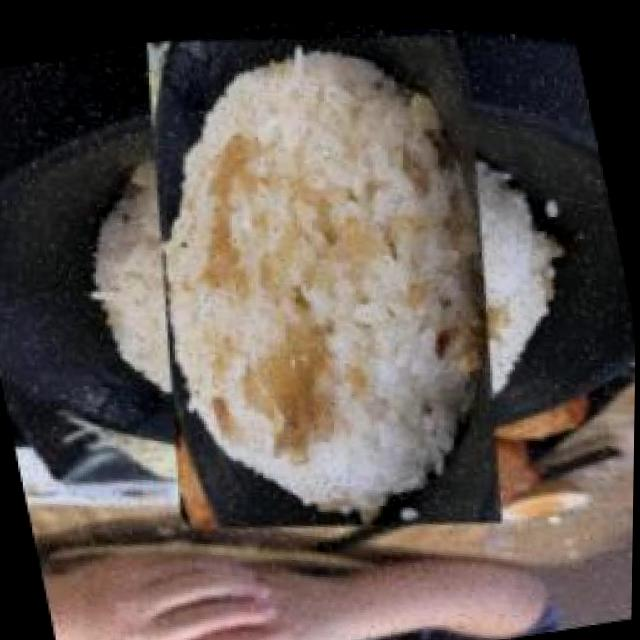rice: (46, 3, 599, 563)
